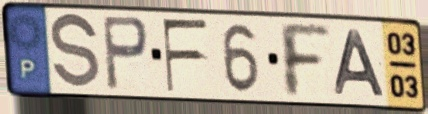6: (219, 21, 262, 95)
A: (332, 28, 388, 99)
F: (275, 20, 334, 101), (159, 17, 211, 95)
P: (99, 14, 152, 94)
S: (48, 10, 103, 93)
